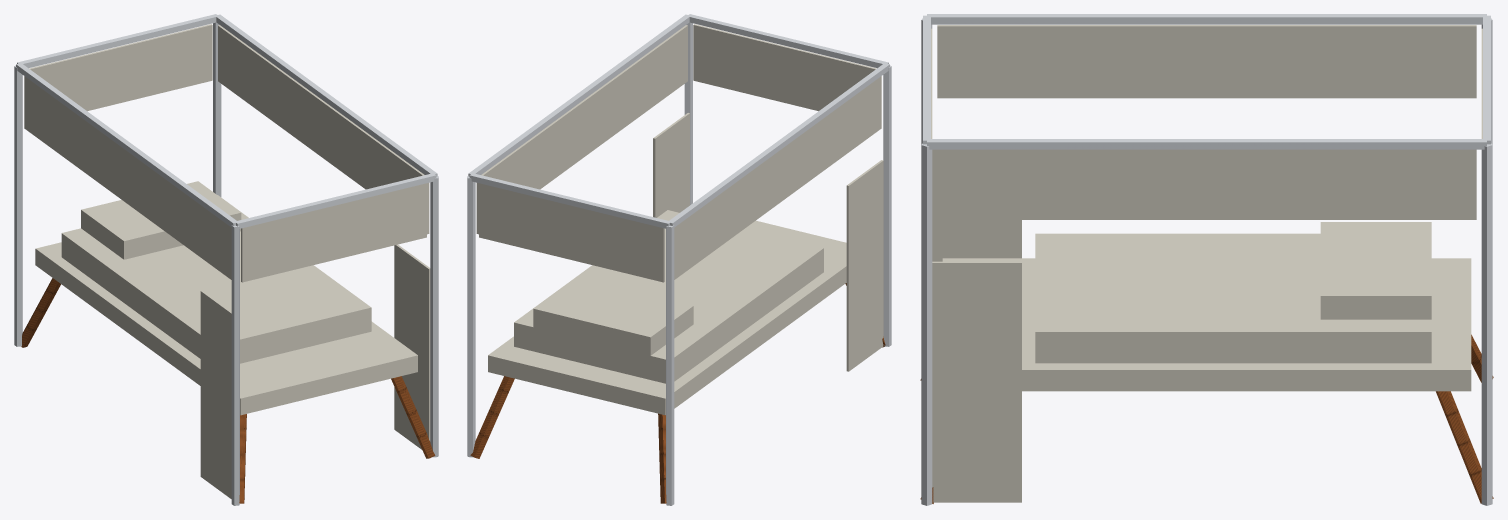
The model's file is safari-camp-and-bush-lodge-camp-bed-and-net-frame-0a2765e8__37672.glb.
3 views of the same model, side by side, from view 1: azimuth 30°, elevation 25°; view 2: azimuth 150°, elevation 25°; view 3: azimuth 270°, elevation 25° (orthographic). The views are drawn at different scales.
Parts seen in each view (by area): view 1: camp-bed-and-net-frame-canvas, camp-bed-and-net-frame-steel, camp-bed-and-net-frame-timber; view 2: camp-bed-and-net-frame-canvas, camp-bed-and-net-frame-steel, camp-bed-and-net-frame-timber; view 3: camp-bed-and-net-frame-canvas, camp-bed-and-net-frame-steel, camp-bed-and-net-frame-timber.
Part boxes in pixels (<box>): camp-bed-and-net-frame-canvas: <box>24,24,430,498</box>; camp-bed-and-net-frame-steel: <box>14,14,438,505</box>; camp-bed-and-net-frame-timber: <box>21,278,435,503</box>; camp-bed-and-net-frame-canvas: <box>476,24,883,415</box>; camp-bed-and-net-frame-steel: <box>467,14,891,505</box>; camp-bed-and-net-frame-timber: <box>470,283,885,503</box>; camp-bed-and-net-frame-canvas: <box>931,25,1482,502</box>; camp-bed-and-net-frame-steel: <box>921,14,1492,505</box>; camp-bed-and-net-frame-timber: <box>920,334,1493,503</box>.
Bounding box in the file's own units: 1.16 × 1.53 × 2.17.
3 materials, 1 textured.
